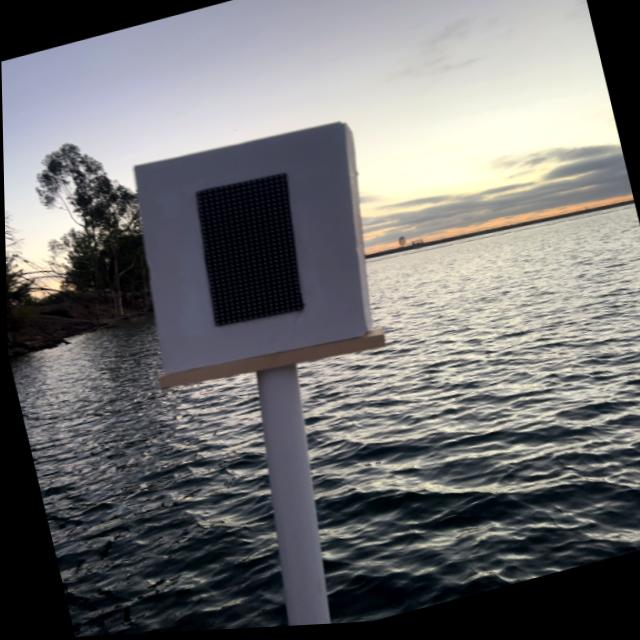led: (152, 142, 340, 363)
